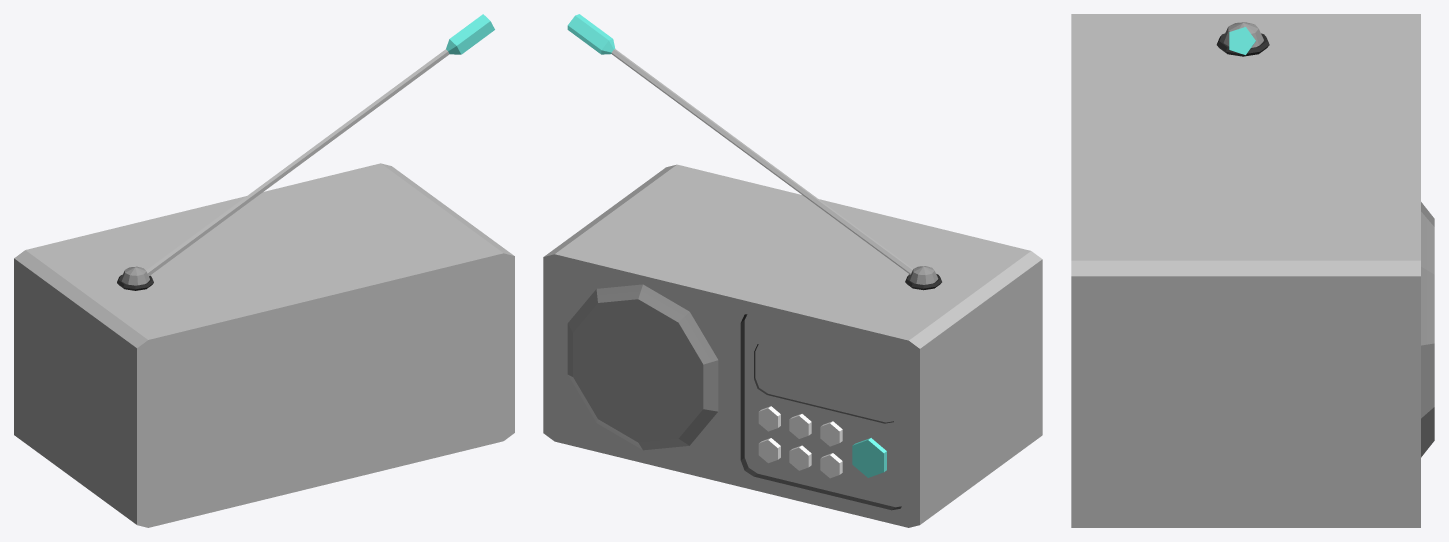
Rendered from radio4_V2.fbx.
The picture shows the model from 3 angles, left to right: view 1: azimuth 30°, elevation 25°; view 2: azimuth 150°, elevation 25°; view 3: azimuth 270°, elevation 25°; orthographic projection. The views are drawn at different scales.
Parts seen in each view (by area): view 1: Cube.013; view 2: Cube.013; view 3: Cube.013.
Boxes of the visible parts, <box> form: Cube.013: <box>14,14,514,527</box>; Cube.013: <box>543,14,1042,527</box>; Cube.013: <box>1071,14,1434,527</box>.
Size of the model in its own units: 522 by 447 by 278.
